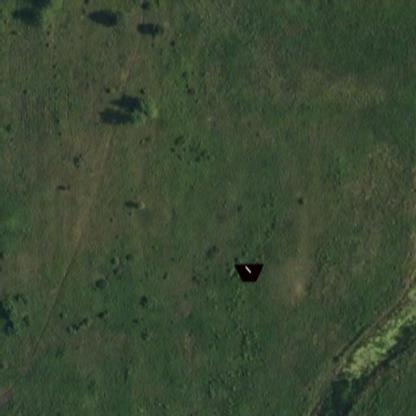I: (244, 265, 252, 275)
trapezium: (233, 261, 264, 285)
